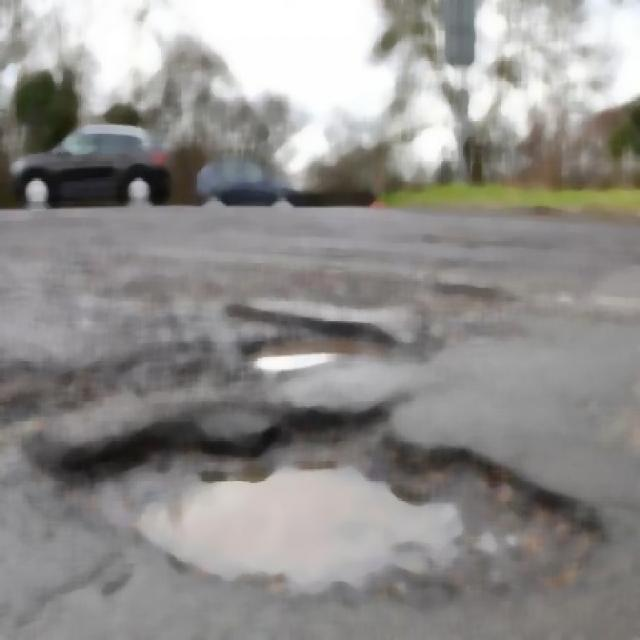Pothole: (76, 409, 564, 617), (233, 297, 376, 385)
